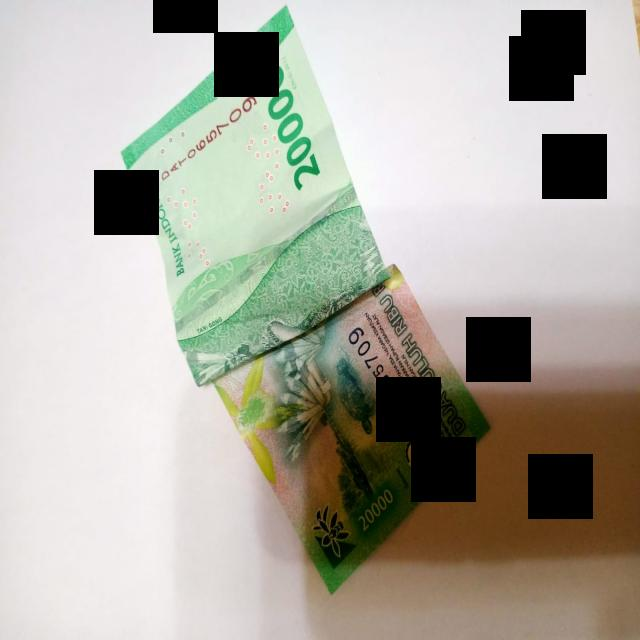dua puluh ribu rupiah: (122, 7, 489, 592)
